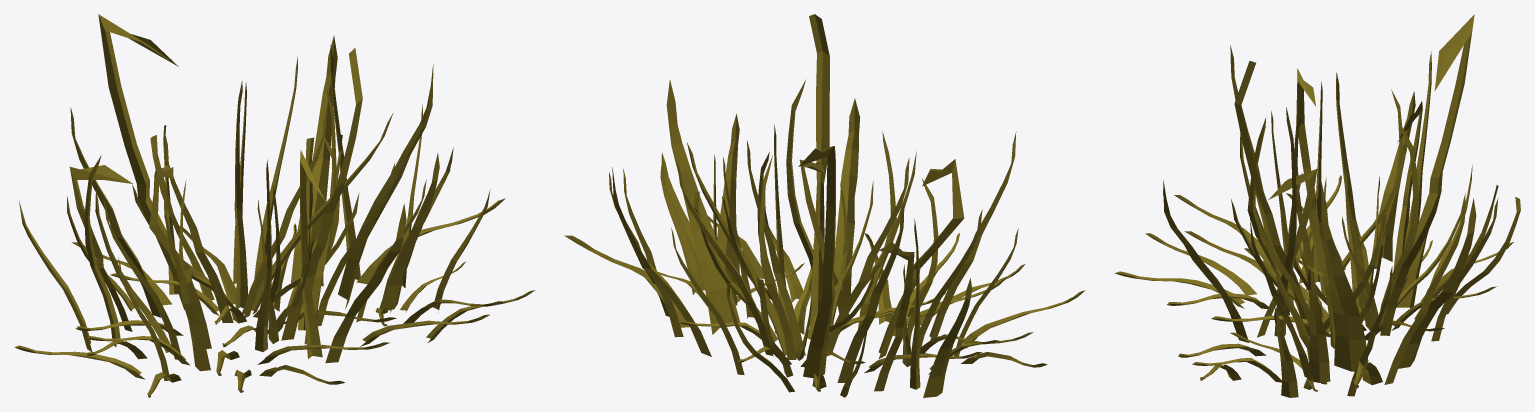
File: wild-grasses-1.obj
3 renders of one model, left to right at view 1: azimuth 30°, elevation 25°; view 2: azimuth 150°, elevation 25°; view 3: azimuth 270°, elevation 25°, orthographic. The views are drawn at different scales.
Parts seen in each view (by area): view 1: Grass.Clump.Style_4; view 2: Grass.Clump.Style_4; view 3: Grass.Clump.Style_4.
Part boxes in pixels (<box>): Grass.Clump.Style_4: <box>14,14,535,397</box>; Grass.Clump.Style_4: <box>564,14,1085,397</box>; Grass.Clump.Style_4: <box>1114,14,1520,397</box>.
Size of the model in its own units: 1.01 by 0.5883 by 0.744.
